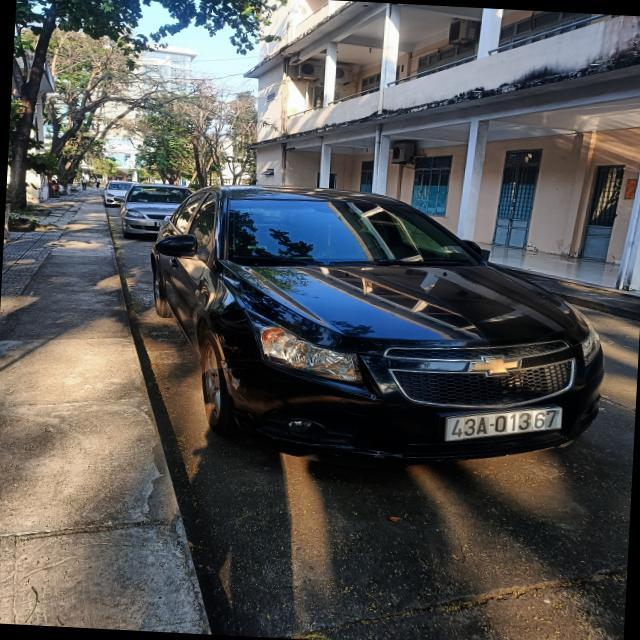car: (151, 187, 616, 480)
plate: (442, 406, 567, 444)
